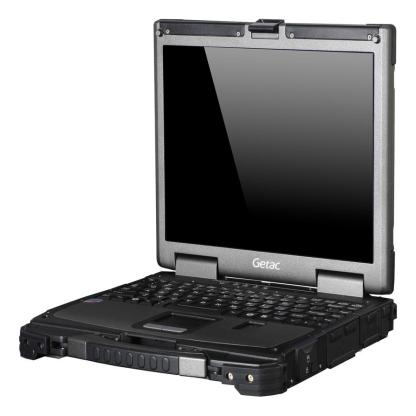board: (20, 3, 414, 403)
